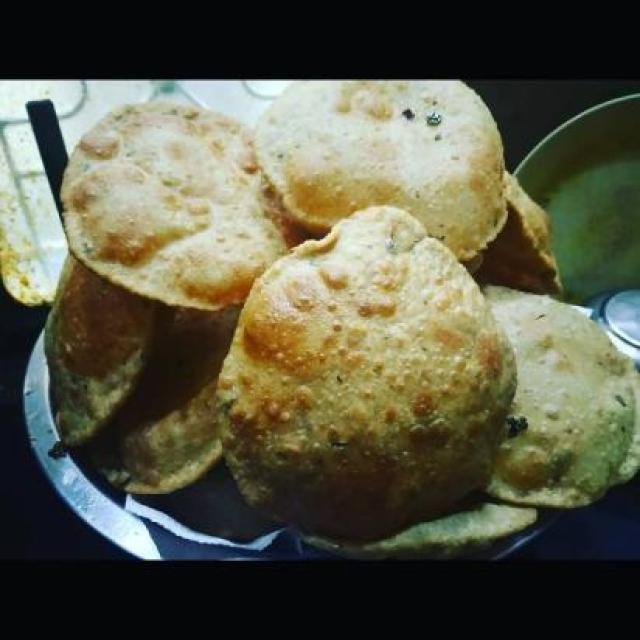poori: (48, 78, 640, 572)
